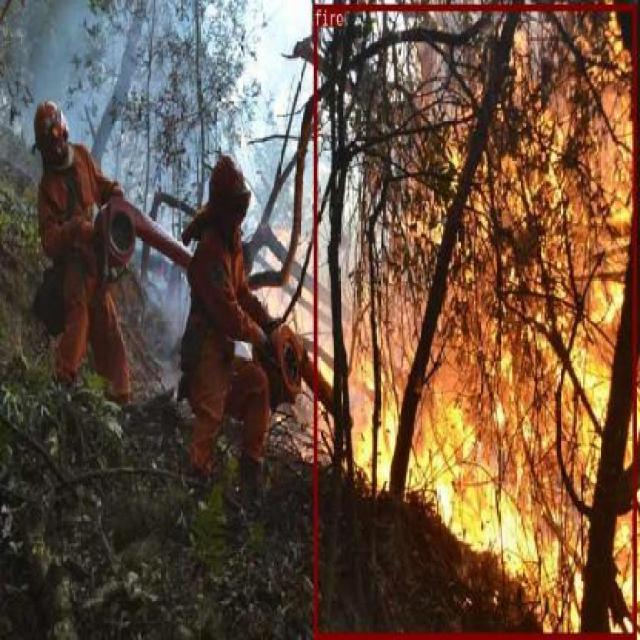fire: (314, 4, 635, 638)
